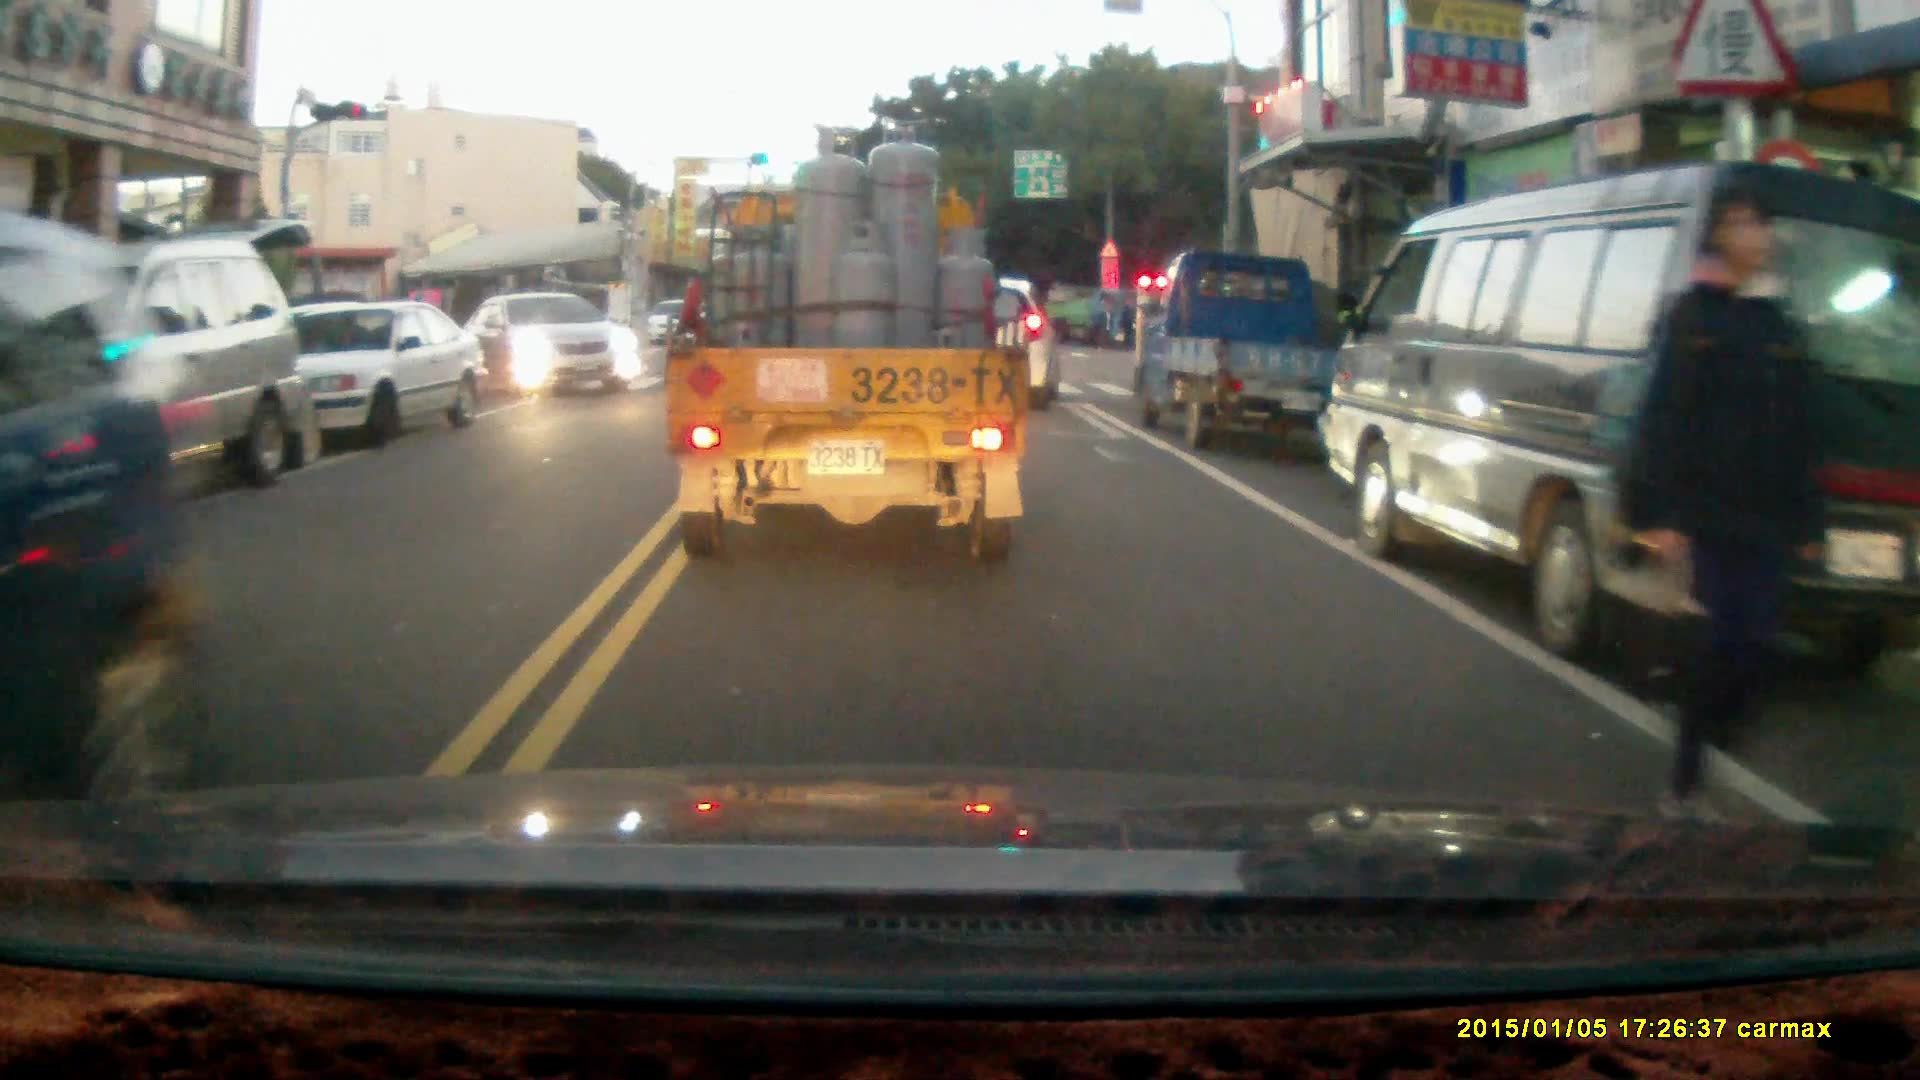pedestrian: (1635, 189, 1829, 822)
vehicle: (1317, 155, 1913, 680), (668, 123, 1038, 567), (1, 278, 214, 846), (1129, 243, 1349, 445), (242, 299, 491, 462), (893, 268, 1062, 409), (470, 289, 642, 399)
